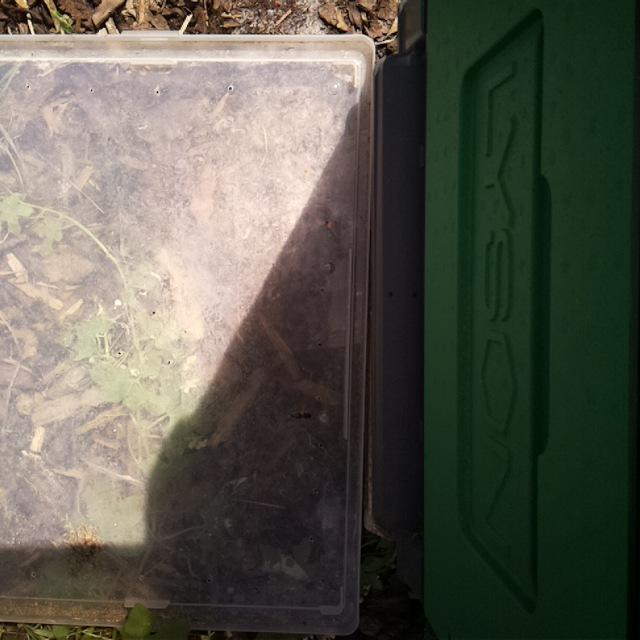worker-bee: (286, 406, 315, 425)
